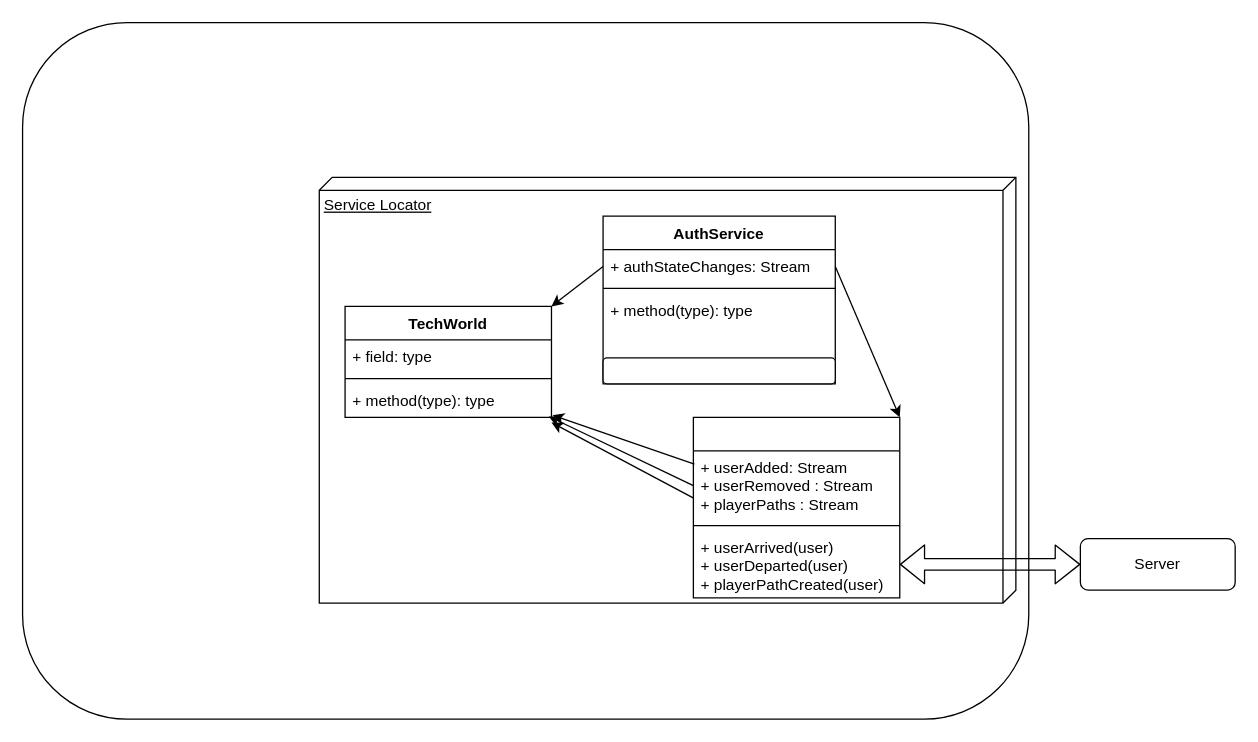
This 1258x742 diagram has some shape labels left out. Here are the shapes that lost their labels. From the top down, the box of each, then its label:
(602, 357, 835, 384): FirebaseAuth
(692, 416, 900, 598): NetworkingService
